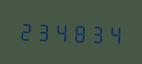eight: (69, 19, 85, 44)
four: (52, 19, 68, 43), (103, 21, 119, 45)
three: (34, 18, 50, 43), (86, 20, 102, 45)
two: (17, 18, 33, 42)
